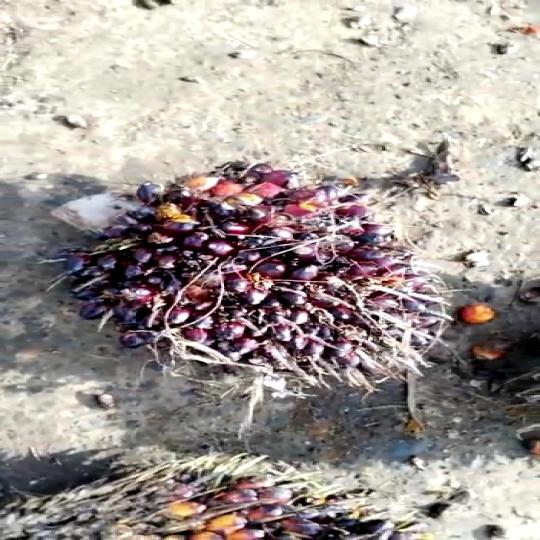kurang masak: (51, 138, 452, 408)
